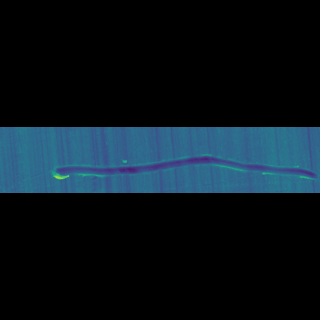Loch: (49, 158, 319, 164)
